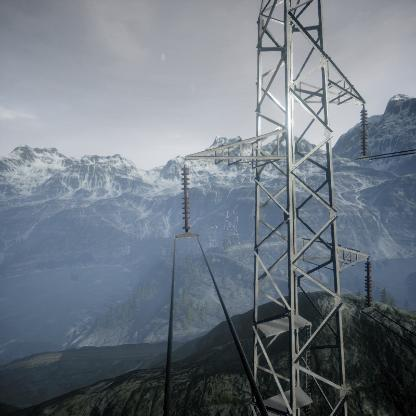insulator: (179, 164, 194, 232), (359, 106, 371, 156), (363, 259, 375, 304)
